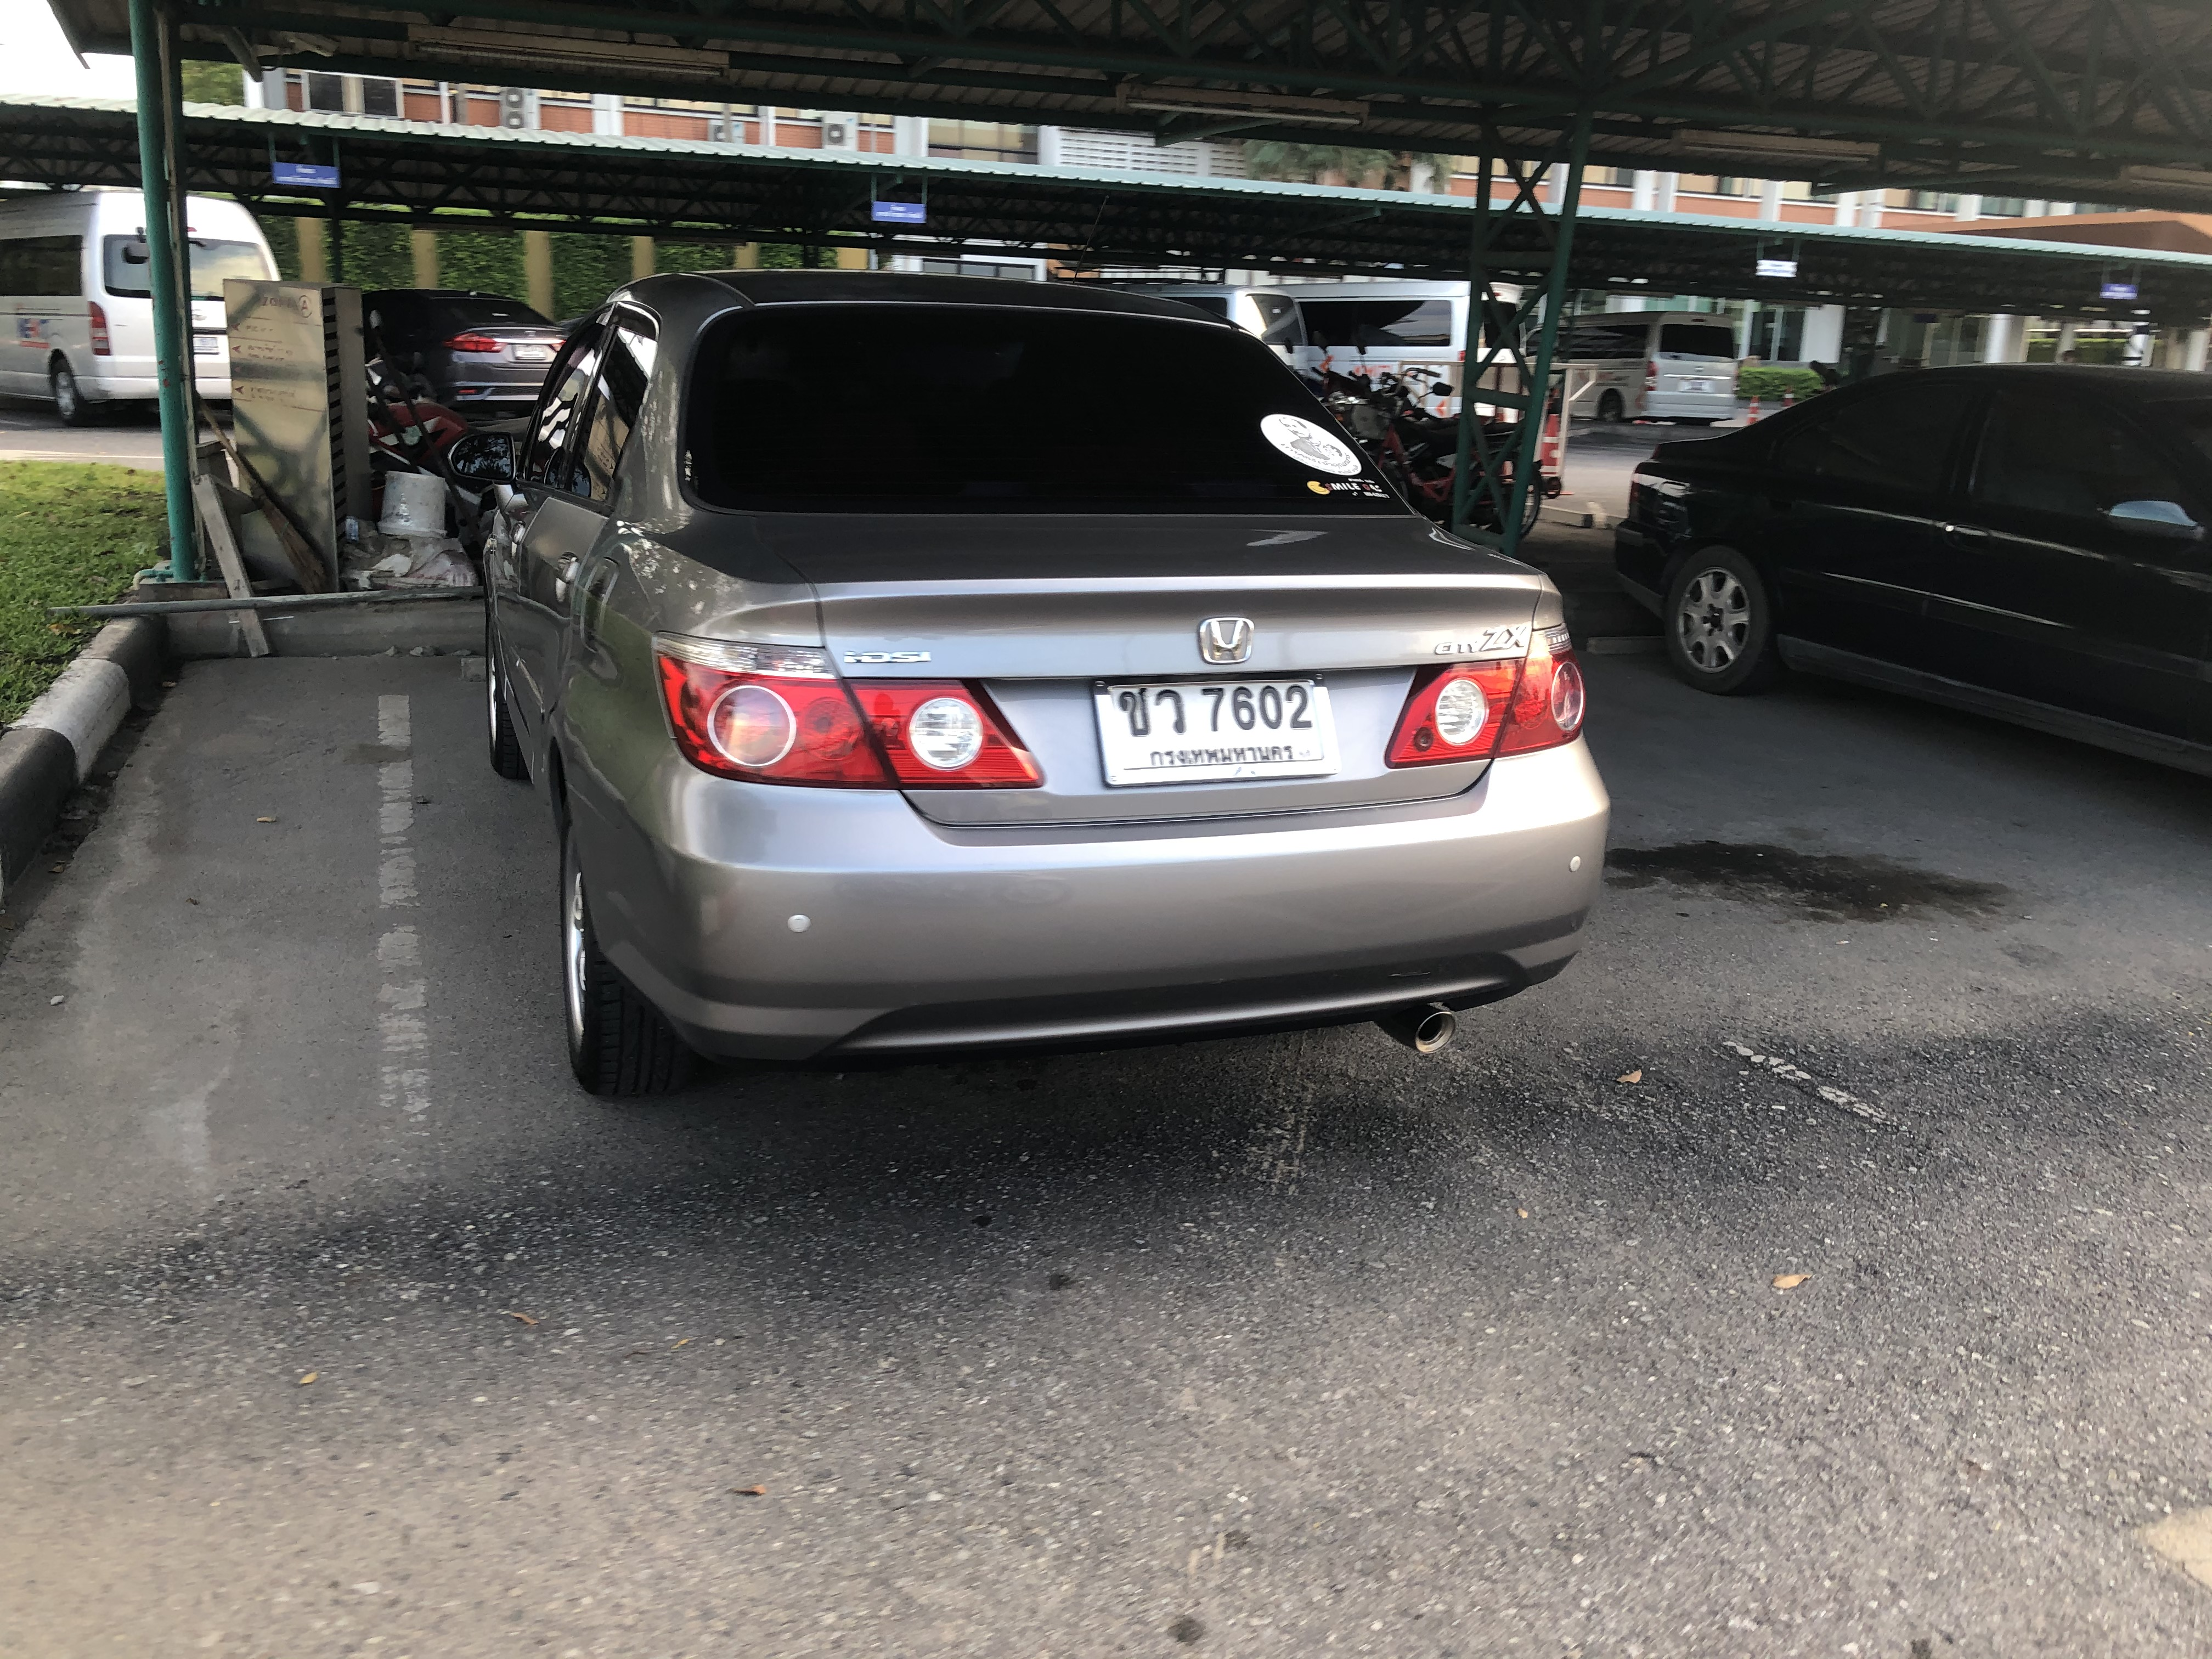in: (1113, 687, 1325, 762)
out: (1092, 671, 1341, 788)
